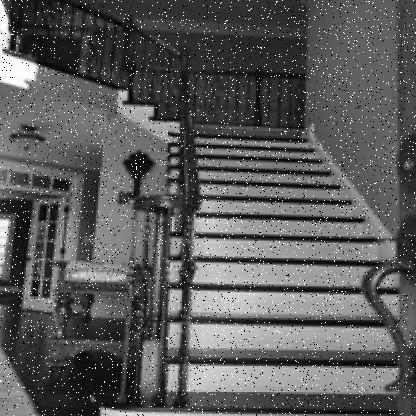stair_up: (152, 318, 396, 416)
